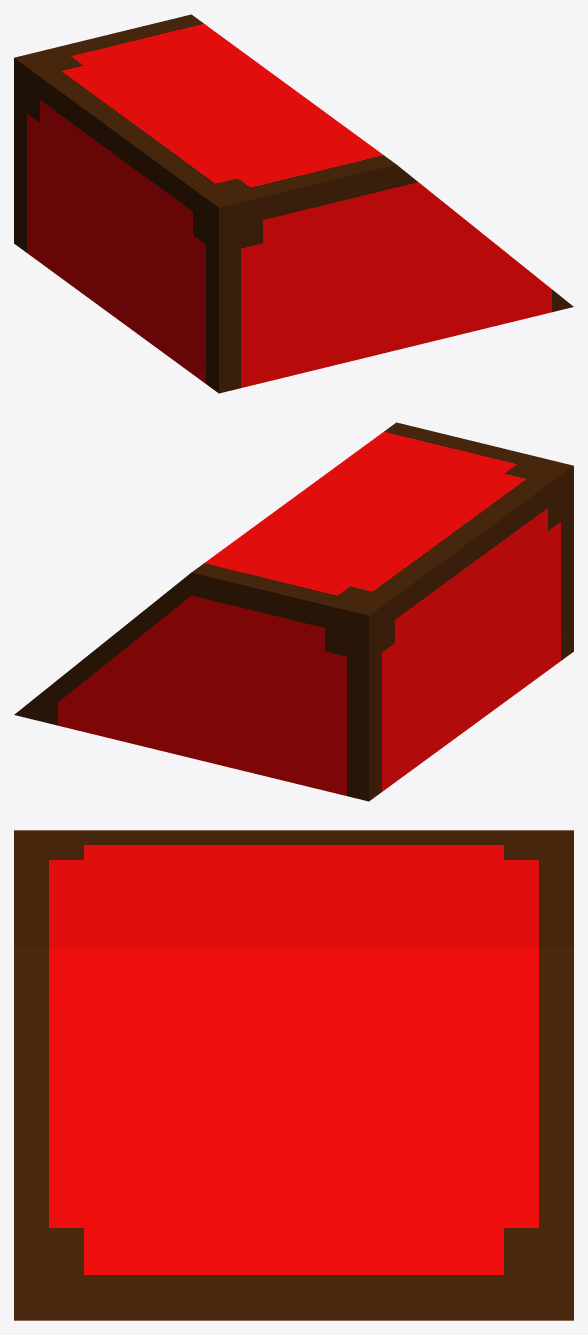
The model's file is 2_red.obj.
3 renders of one model, top to bottom at view 1: azimuth 30°, elevation 25°; view 2: azimuth 150°, elevation 25°; view 3: azimuth 270°, elevation 25°, orthographic. The views are drawn at different scales.
Parts seen in each view (by area): view 1: 2_red; view 2: 2_red; view 3: 2_red.
Boxes of the visible parts, box(x1,y1,x2,y2) form: 2_red: box(14, 14, 573, 393); 2_red: box(14, 422, 573, 801); 2_red: box(14, 830, 573, 1320).
Size of the model in its own units: 1 by 0.5 by 1.
1 material, 1 textured.
